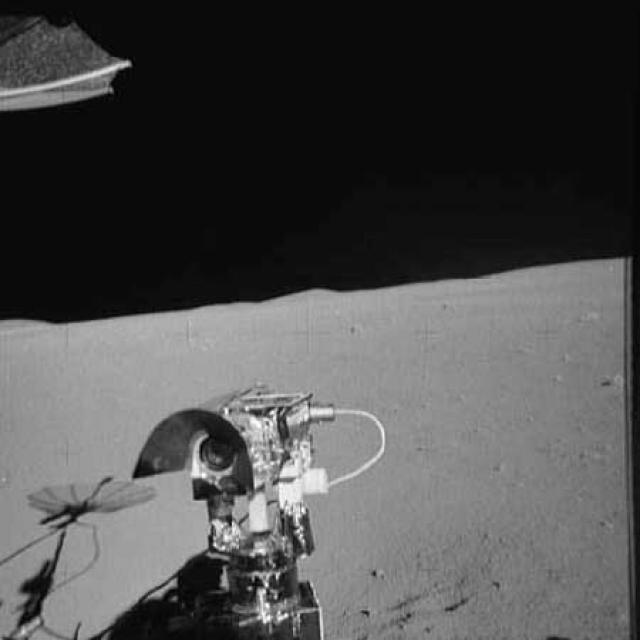crater: (419, 587, 484, 617)
rock: (594, 367, 628, 394), (355, 598, 381, 620), (359, 564, 390, 582)
